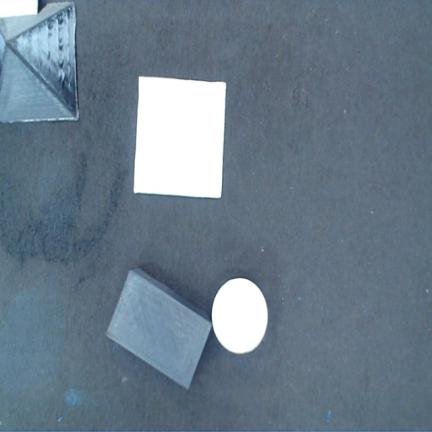Esfera: (212, 278, 268, 354)
Paralelepipedo: (107, 267, 212, 388)
Piramide: (134, 76, 225, 197), (0, 2, 78, 122)
